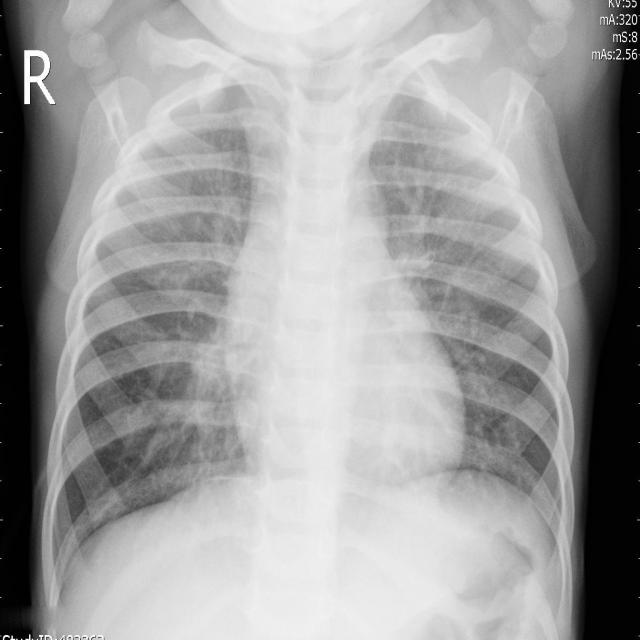low-pneumonia: (379, 186, 488, 352), (157, 319, 245, 481)
